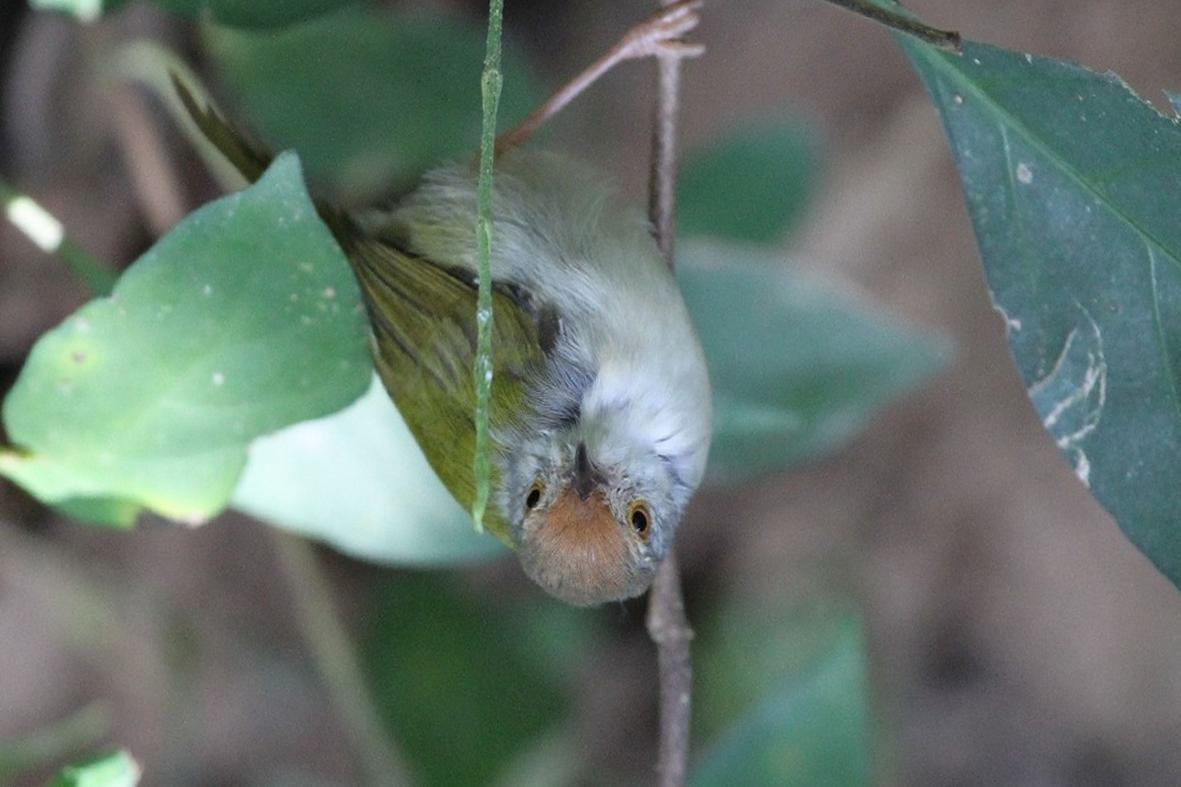tailorbird: (220, 104, 758, 656)
